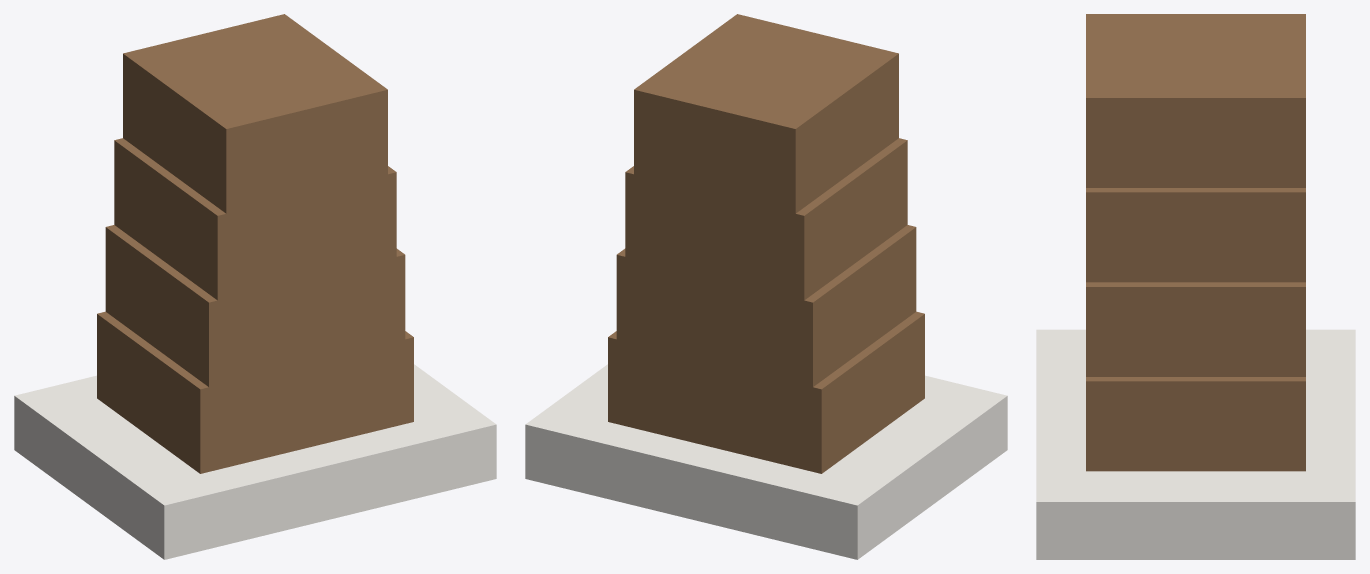
The model's file is storage_cabinet-lv4.glb.
3 views of the same model, side by side, from view 1: azimuth 30°, elevation 25°; view 2: azimuth 150°, elevation 25°; view 3: azimuth 270°, elevation 25° (orthographic). The views are drawn at different scales.
Parts seen in each view (by area): view 1: Base, Level4, Level1, Level2, Level3; view 2: Base, Level4, Level1, Level2, Level3; view 3: Base, Level4, Level1, Level2, Level3.
Boxes of the visible parts, <box> form: Base: <box>14,364,496,559</box>; Level4: <box>123,14,387,213</box>; Level1: <box>97,311,413,473</box>; Level2: <box>105,225,405,387</box>; Level3: <box>114,138,396,300</box>; Base: <box>525,364,1007,559</box>; Level4: <box>634,14,898,213</box>; Level1: <box>608,311,924,473</box>; Level2: <box>616,225,916,387</box>; Level3: <box>625,138,907,300</box>; Base: <box>1036,329,1355,559</box>; Level4: <box>1086,14,1305,187</box>; Level1: <box>1086,377,1305,471</box>; Level2: <box>1086,282,1305,376</box>; Level3: <box>1086,188,1305,282</box>.
Size of the model in its own units: 1.15 by 1.3 by 0.9.
